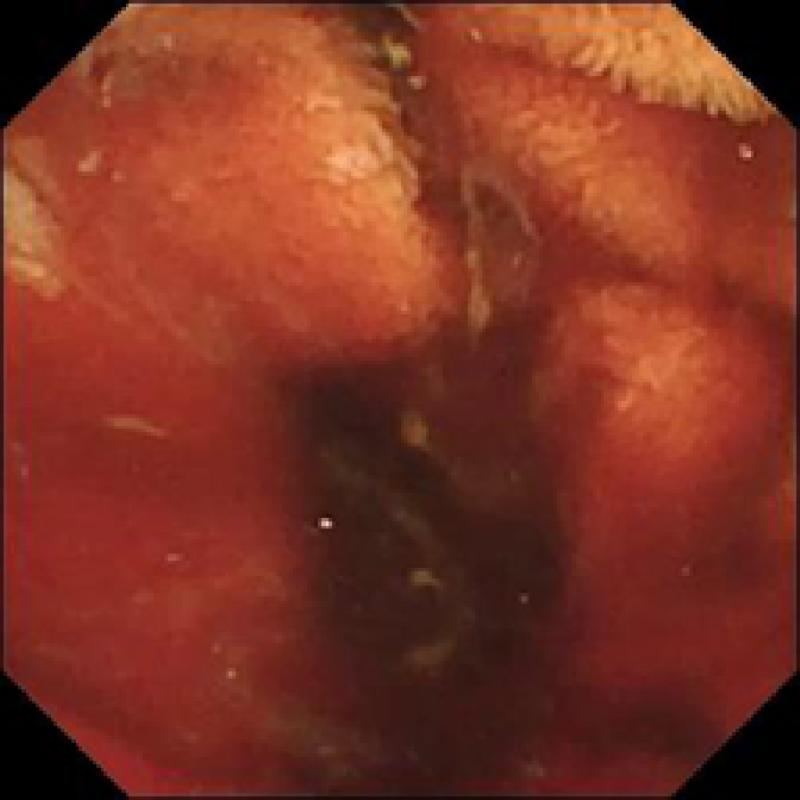bleeding: (0, 57, 800, 800)
